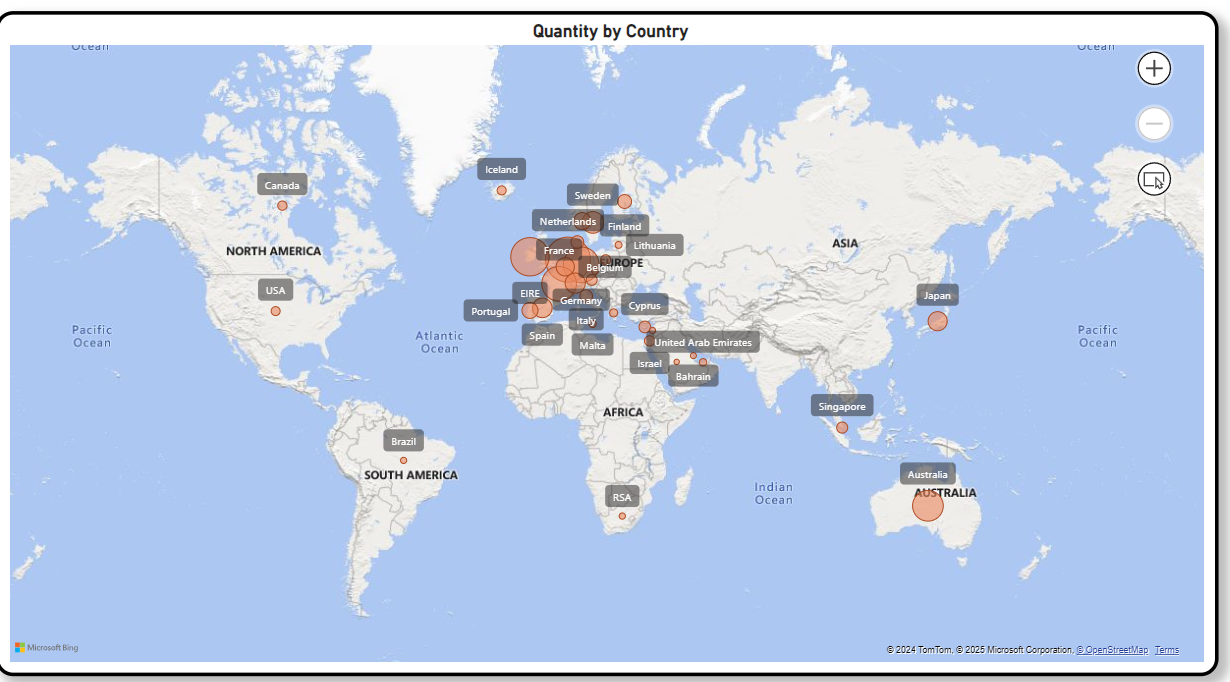

What the dashboard file says about the page in this screenshot:
{"tool":"powerbi","page":{"name":"Page 2","canvas":[1280,720],"ordinal":1},"visuals":[{"type":"map","fields":{"Category":["Online Retail.Country"],"Size":["Sum(Online Retail.Quantity)"]},"box":[16.8,34.7,1245.6,677.7],"z":0}]}

Visuals, with their boxes in screenshot pixels (x1, y1, x2, y2), scaled from the page's 1280x720 canvas onto the 1230x682 screenshot:
map - Online Retail.Country x Sum(Online Retail.Quantity): pyautogui.locateOnScreen(16, 33, 1213, 675)
